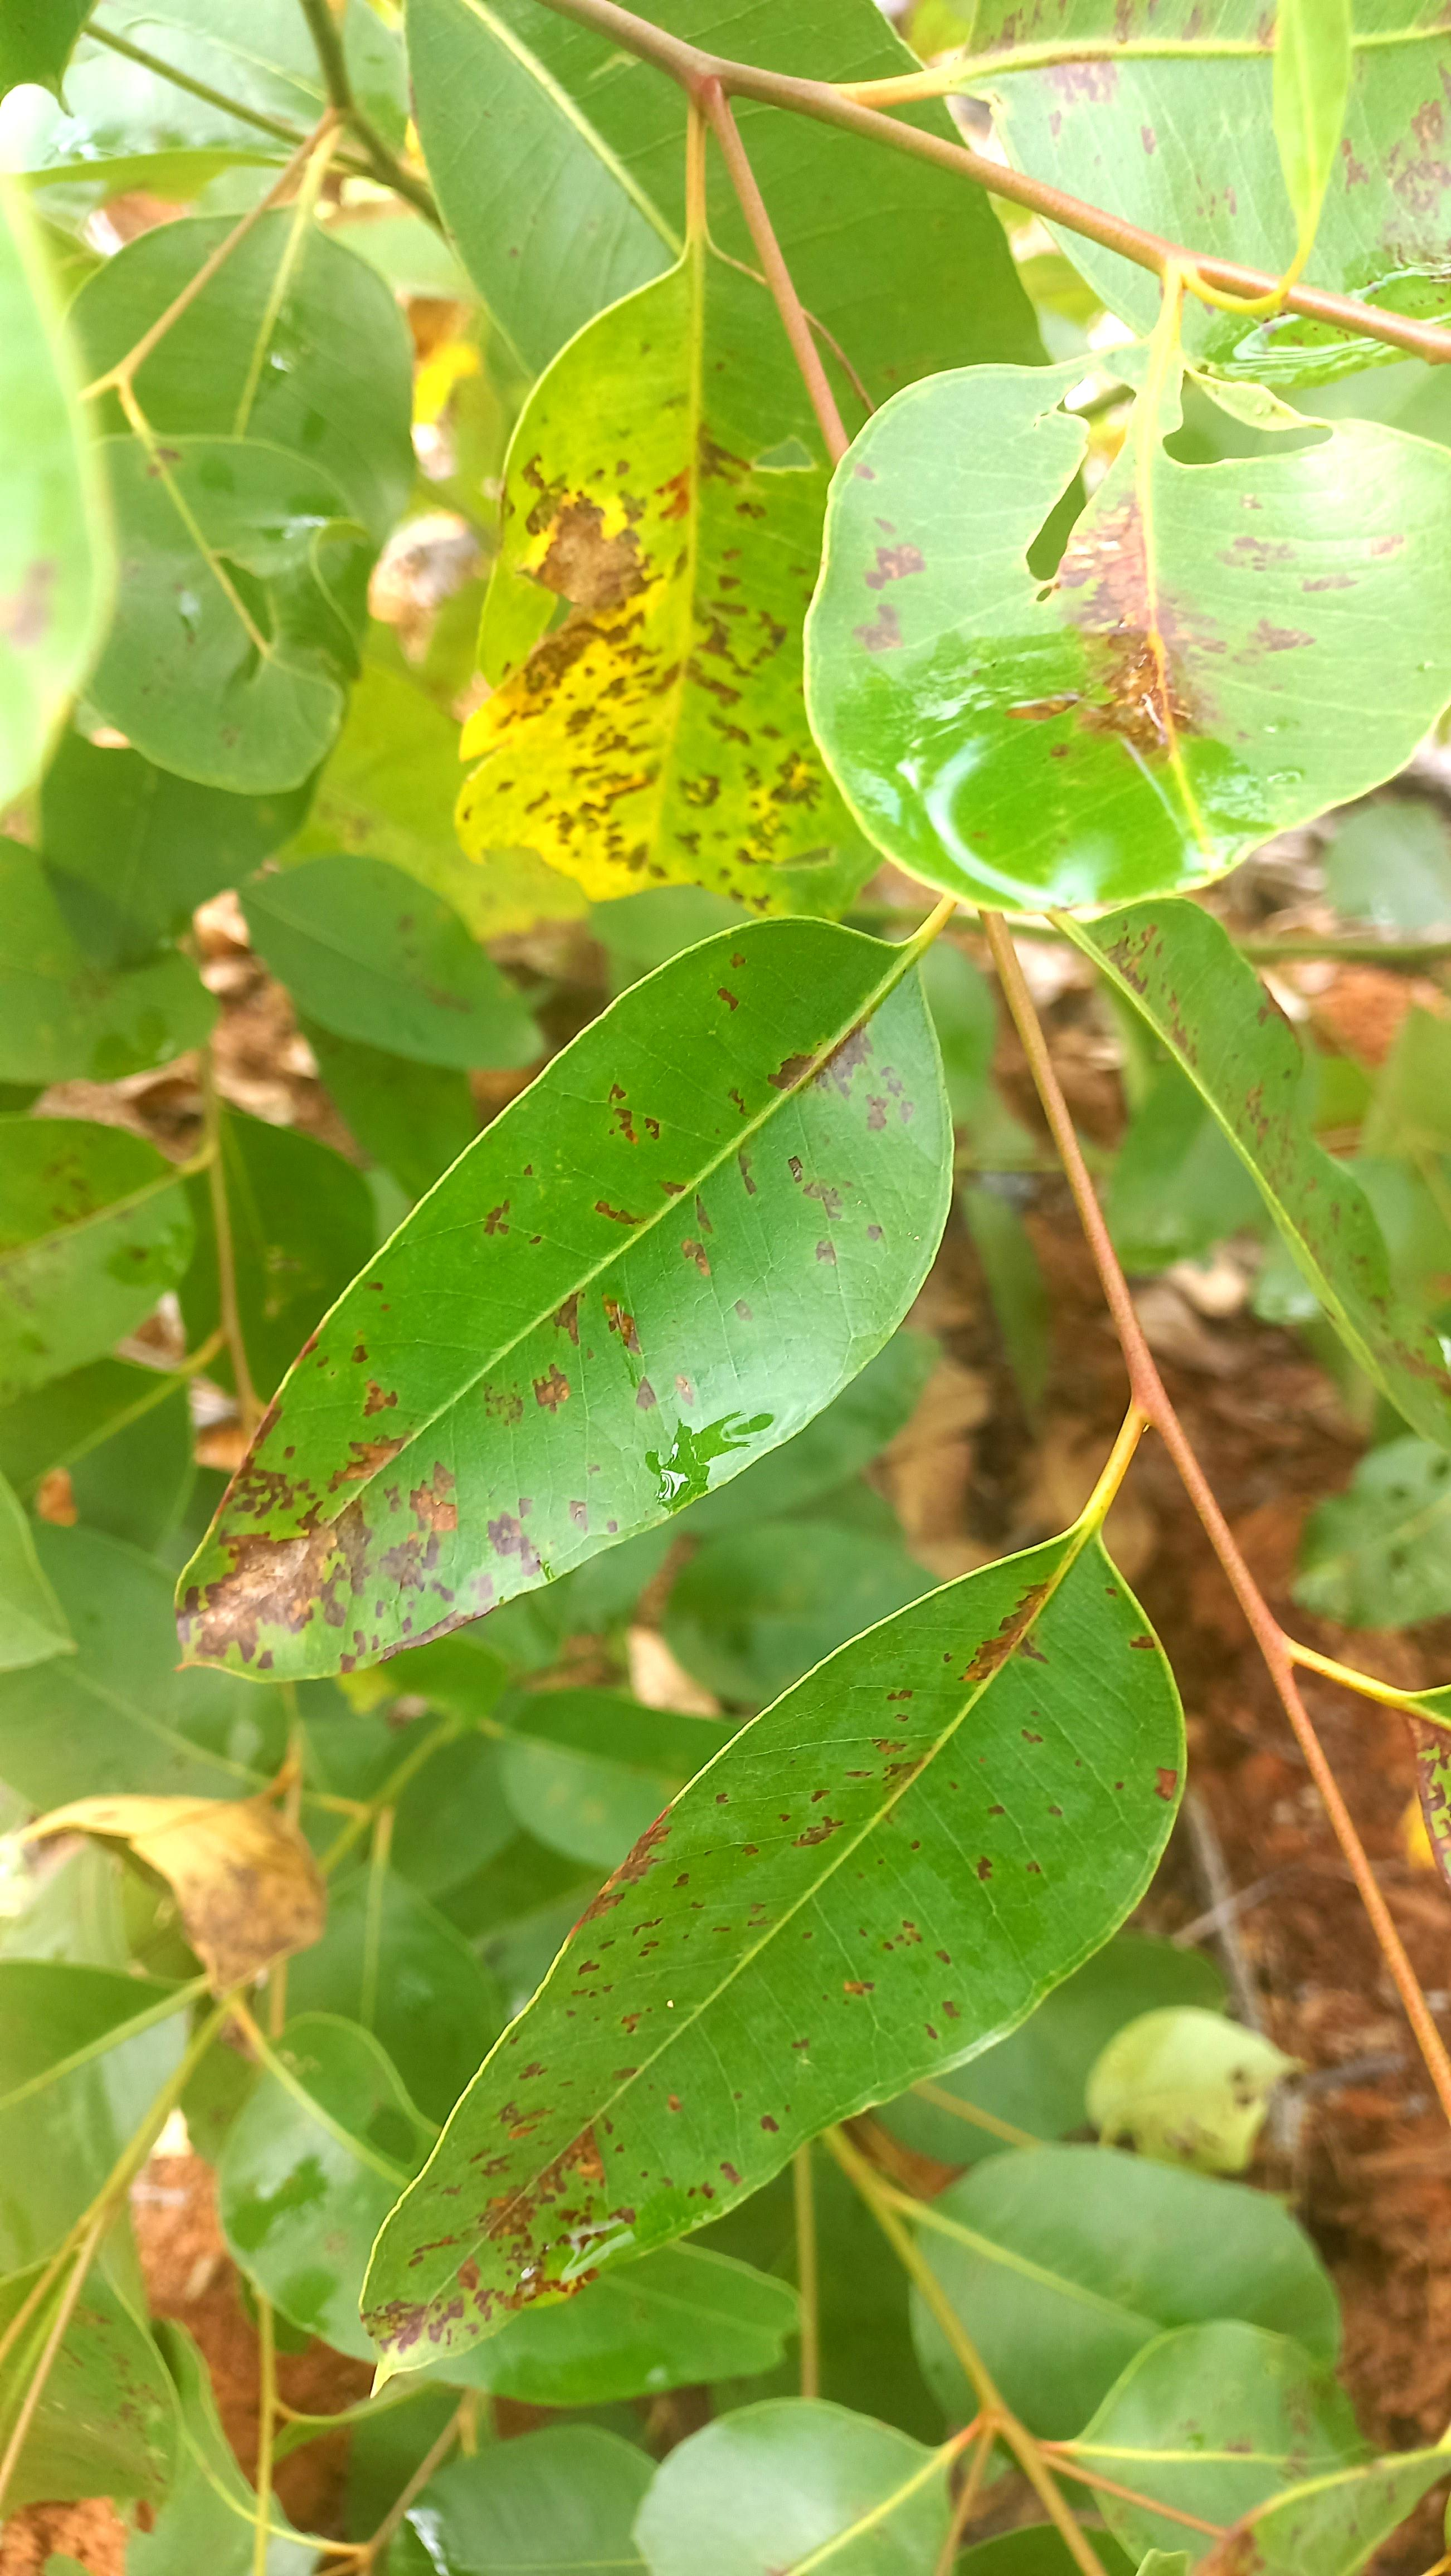Xanthomonas: (172, 1288, 513, 1741), (485, 414, 780, 853), (368, 2035, 676, 2387)
